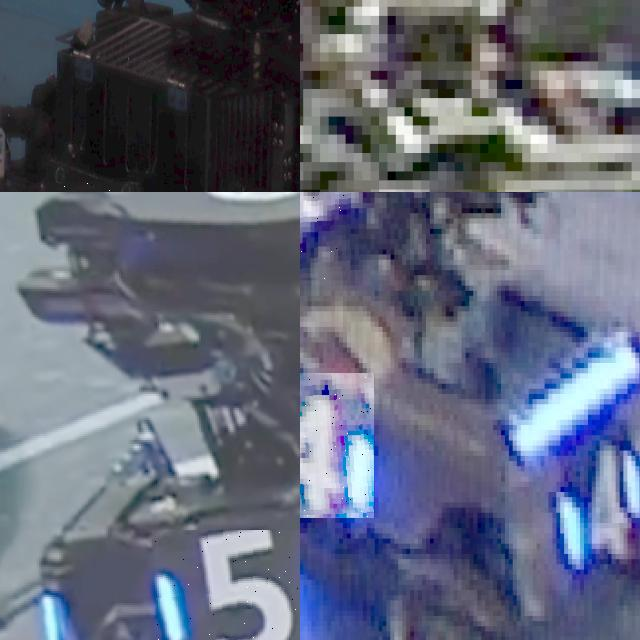B4: (540, 430, 640, 564), (300, 373, 374, 517), (300, 192, 351, 285)
B5: (155, 530, 300, 640)
